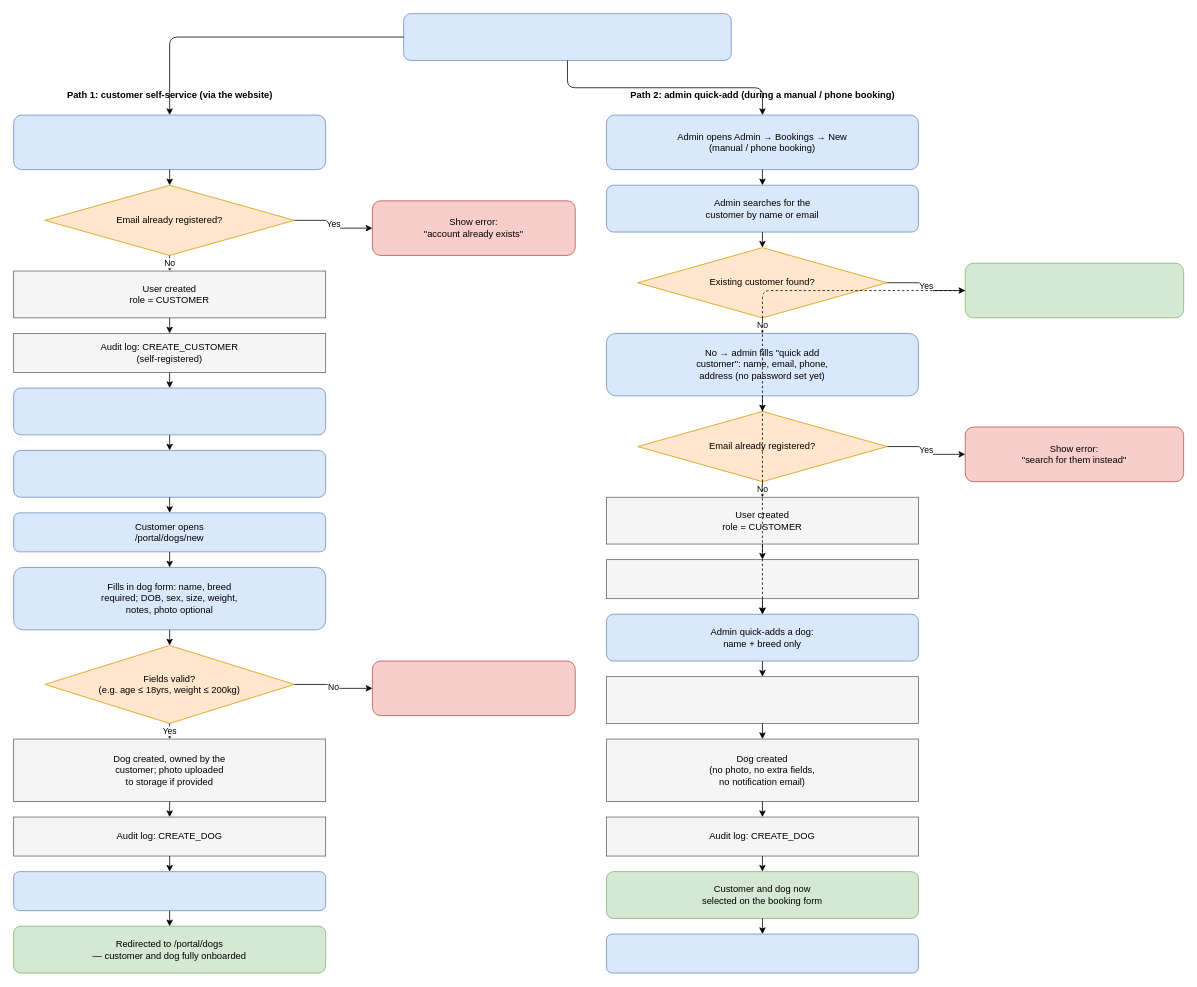
Some shapes in this 1197 by 987 pixel diagram are drawn without their labels. The box of each missing label's shape, as (x1, y1, x2, y2) in pixels:
A new customer (with a dog) needs to be added to the system: (403, 13, 731, 60)
Admin continues creating the manual booking: (606, 933, 918, 973)
Audit log: CREATE_CUSTOMER: (606, 559, 918, 599)
createQuickDog checks the owner is a CUSTOMER: (606, 676, 918, 723)
Customer auto-signed in → redirected to /portal: (13, 450, 326, 497)
Customer opens /register and fills in name, email, password, phone, address: (13, 114, 326, 170)
Notification email sent (best-effort): (13, 871, 326, 911)
Show field errors — stays on the form: (372, 660, 575, 716)
Welcome email sent (best-effort) — links to /portal/dogs/new: (13, 387, 326, 435)
Yes → use existing customer (skip customer creation): (964, 262, 1184, 318)
